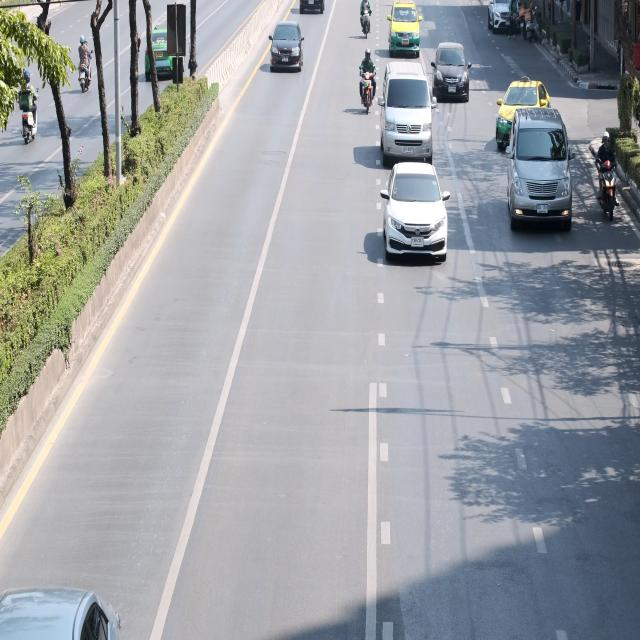cars: (368, 142, 467, 303), (504, 105, 574, 282), (380, 68, 437, 169), (492, 65, 551, 141), (432, 34, 479, 116), (271, 10, 307, 110), (145, 20, 186, 94), (389, 6, 423, 69)
motorcycle: (594, 127, 621, 239), (74, 34, 102, 116), (350, 45, 381, 116), (18, 74, 40, 148), (358, 2, 376, 42)
